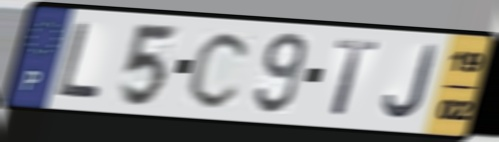5: (113, 21, 183, 109)
9: (252, 31, 309, 117)
C: (184, 28, 255, 112)
J: (381, 43, 440, 123)
L: (54, 19, 106, 100)
T: (328, 37, 383, 119)
